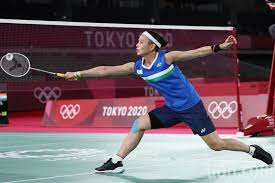person: (65, 23, 275, 175)
